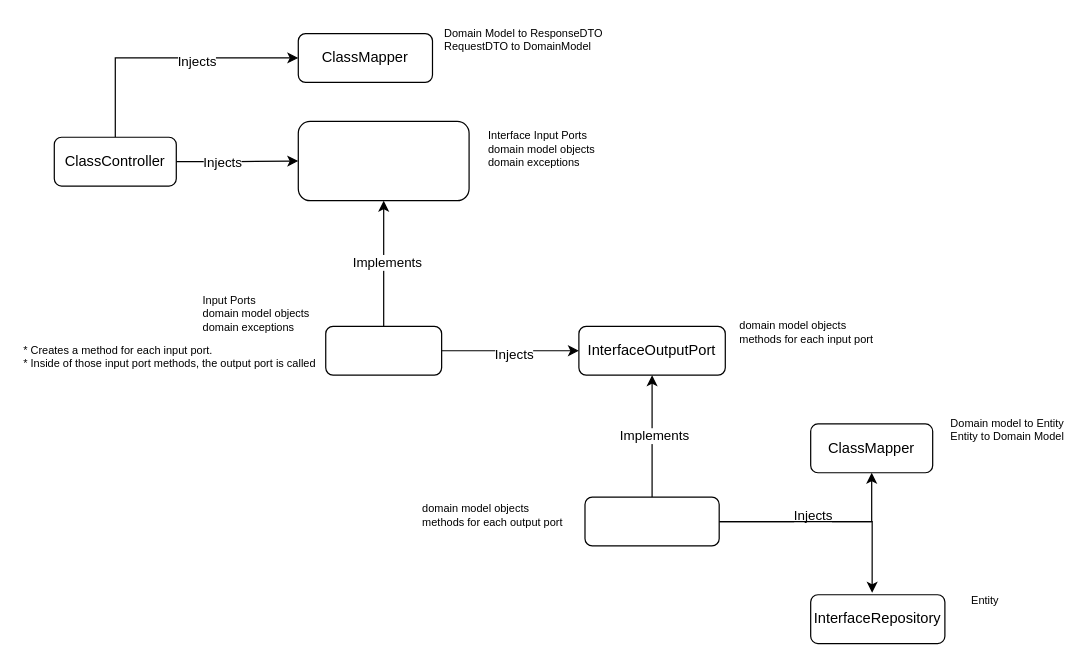
Some shapes in this 1092 by 665 pixel diagram are drawn without their labels. Each missing label, with the centre of its shape:
"ClassAdapter" belongs at point (651, 521).
"ClassService" belongs at point (383, 350).
"CreateUseCase ReadUseCase UpdateUseCase DeleteUseCase" belongs at point (383, 160).
